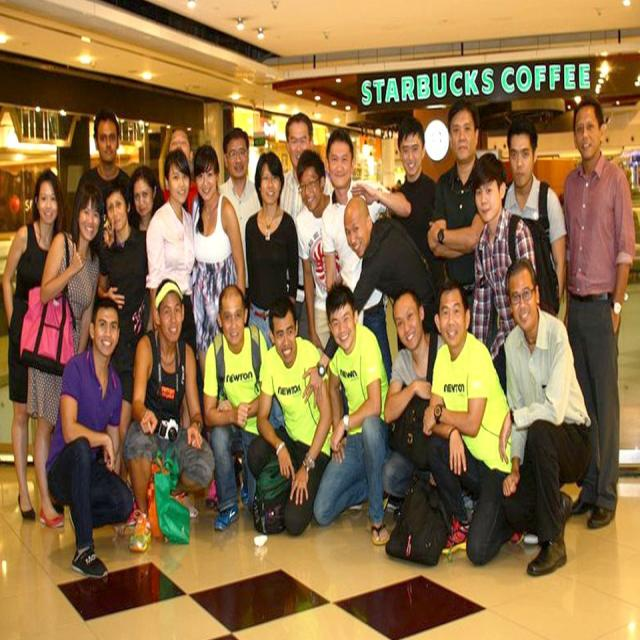body: (560, 95, 636, 530), (496, 254, 595, 579), (421, 276, 528, 571), (301, 195, 438, 411), (24, 178, 104, 529), (320, 126, 415, 419), (120, 274, 217, 555), (43, 294, 136, 586), (1, 167, 70, 524), (245, 292, 334, 539), (313, 280, 391, 547), (201, 280, 271, 538), (469, 149, 539, 399), (426, 94, 490, 354), (97, 179, 151, 486), (379, 286, 446, 503), (190, 144, 247, 383), (500, 114, 569, 306), (278, 112, 334, 339), (243, 149, 301, 350), (145, 147, 198, 364), (68, 106, 132, 264), (293, 146, 341, 356), (217, 126, 264, 328), (391, 116, 437, 265), (124, 163, 166, 234), (161, 123, 200, 181)
